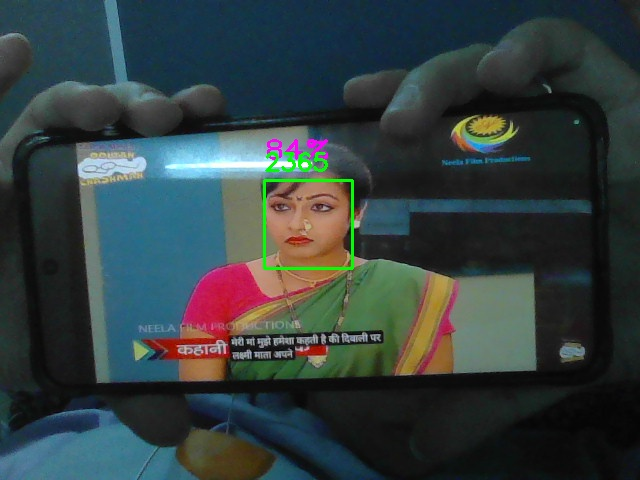fake: (264, 180, 353, 269)
